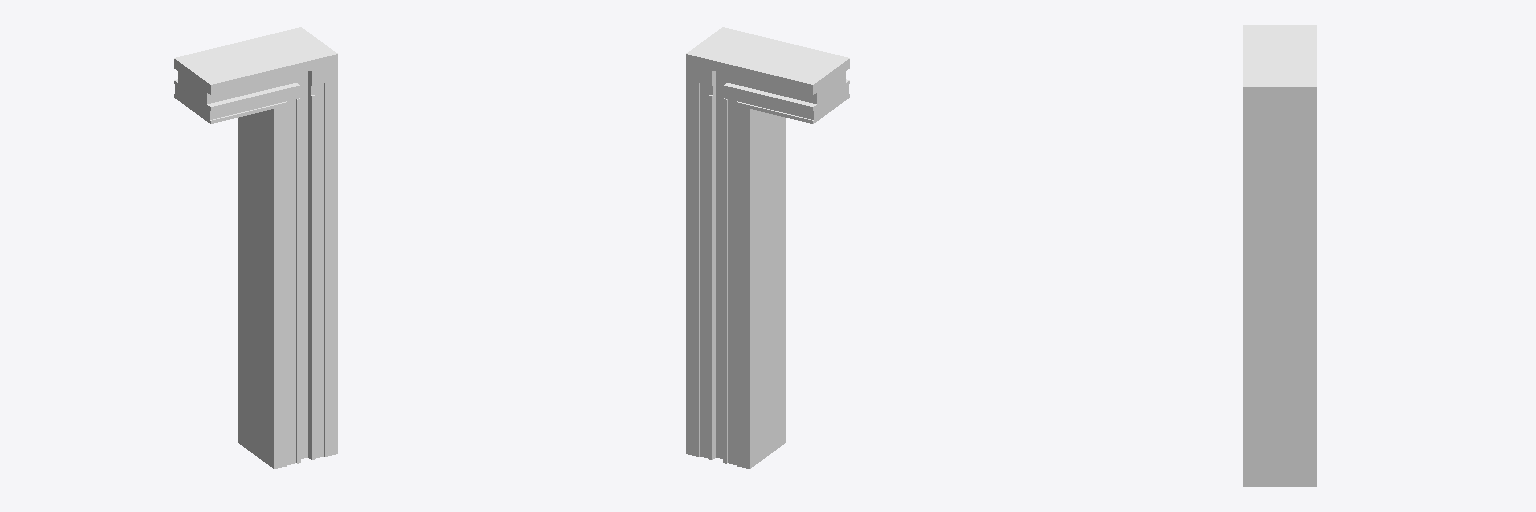
Rendered from TestLayout2-3.obj.
3 views of the same model, side by side, from view 1: azimuth 30°, elevation 25°; view 2: azimuth 150°, elevation 25°; view 3: azimuth 270°, elevation 25° (orthographic).
Parts seen in each view (by area): view 1: object 1; view 2: object 1; view 3: object 1.
Part boxes in pixels (x1,y1,x2,y2): object 1: (174, 27, 337, 468); object 1: (686, 27, 849, 468); object 1: (1243, 25, 1316, 486).
Size of the model in its own units: 7.8 by 23.4 by 3.9.